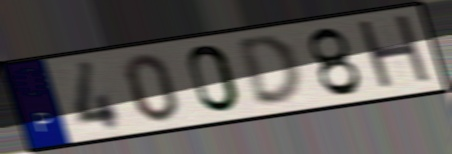0: (122, 50, 183, 126), (185, 42, 244, 116)
4: (74, 58, 121, 133)
8: (307, 25, 364, 98)
D: (234, 32, 305, 108)
H: (353, 11, 437, 95)
